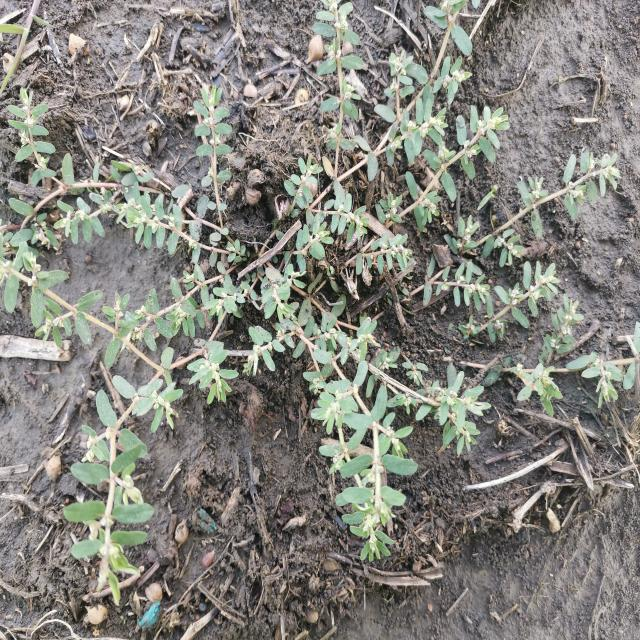SpottedSpurge: (2, 4, 637, 608)
